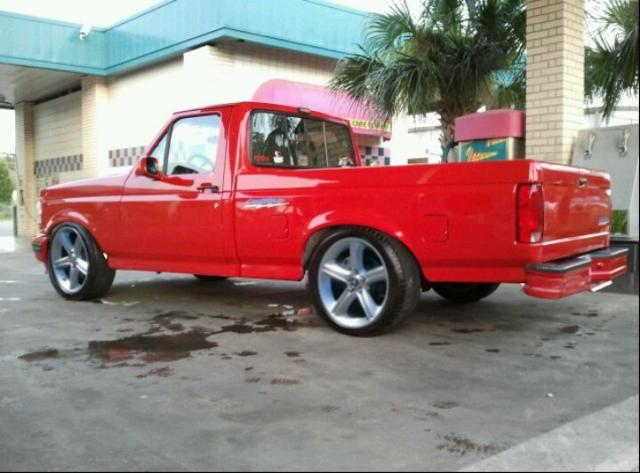pickup-truck: (32, 100, 629, 338)
